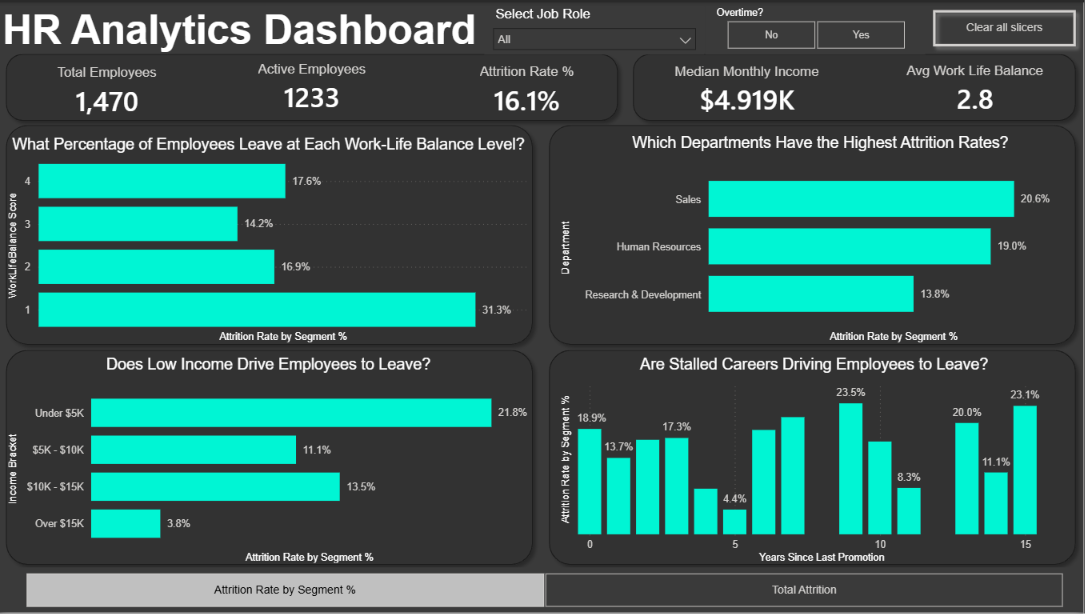

What the dashboard file says about the page in this screenshot:
{"tool":"powerbi","page":{"name":"Dashboard","canvas":[1280,720],"ordinal":0},"visuals":[{"type":"group","id":"g1","title":"Background","box":[0,52.4,1280,620.5],"z":0},{"type":"shape","box":[0,52.4,739.8,96.8],"z":0,"group":"g1"},{"type":"cardVisual","fields":{"Data":["_Measures.Total Employees"]},"box":[0,52.2,256,106.1],"z":1000},{"type":"shape","box":[739.8,52.4,540.4,96.8],"z":1000,"group":"g1"},{"type":"cardVisual","fields":{"Data":["_Measures.Attrition Rate %"]},"box":[496.2,47.3,256,114.6],"z":2000},{"type":"shape","box":[640.7,401.7,639.5,271.4],"z":2000,"group":"g1"},{"type":"cardVisual","fields":{"Data":["_Measures.Active Employees"]},"box":[241.4,43.6,256,114.6],"z":3000},{"type":"shape","box":[640.7,136.2,639.5,277.3],"z":3000,"group":"g1"},{"type":"cardVisual","fields":{"Data":["_Measures.Median Monthly Income"]},"box":[754.6,47.3,256,113.4],"z":4000},{"type":"shape","box":[0,136.2,639.5,277.3],"z":4000,"group":"g1"},{"type":"cardVisual","fields":{"Data":["_Measures.Avg Work Life Balance"]},"box":[1024,46.1,256,114.6],"z":5000},{"type":"shape","box":[0,401.7,639.5,271.4],"z":5000,"group":"g1"},{"type":"clusteredBarChart","title":"What Percentage of Employees Leave at Each Work-Life Balance Level?","fields":{"Category":["Fact_Performance.WorkLifeBalance"],"Y":["_Measures.Attrition Rate by Segment %"]},"box":[7.3,157,622.9,248.7],"z":6000},{"type":"clusteredBarChart","title":"Which Departments Have the Highest Attrition Rates?","fields":{"Category":["JobDetails_dim.Department"],"Y":["_Measures.Attrition Rate by Segment %"]},"box":[659.5,154.6,620.5,251.1],"z":7000},{"type":"clusteredBarChart","title":"Does Low Income Drive Employees to Leave?","fields":{"Category":["Fact_Performance.Income Bracket"],"Y":["_Measures.Attrition Rate by Segment %"]},"box":[7.3,416.7,622.9,249.9],"z":8000},{"type":"clusteredColumnChart","title":"Are Stalled Careers Driving Employees to Leave?","fields":{"Category":["JobDetails_dim.YearsSinceLastPromotion"],"Y":["_Measures.Attrition Rate by Segment %"]},"box":[659.5,416.7,605.9,249.9],"z":9000},{"type":"textbox","box":[0,0,573.5,70.8],"z":10000},{"type":"slicer","fields":{"Values":["JobDetails_dim.JobRole"]},"box":[573.5,0,259.6,61.4],"z":11000},{"type":"actionButton","box":[1093.5,0,186.5,61],"z":12000},{"type":"slicer","fields":{"Values":["Fact_Performance.OverTime"]},"box":[834.2,0,259.6,61.4],"z":13000},{"type":"slicer","fields":{"Values":["Parameter.Parameter"]},"box":[7.1,666.7,1273.2,53.1],"z":13001}]}

Visuals, with their boxes in screenshot pixels (x1, y1, x2, y2), scaled from the page's 1280x720 canvas onto the 1085x614 screenshot:
"Background" group: region(0, 45, 1084, 574)
shape: region(0, 45, 627, 127)
cardVisual - _Measures.Total Employees: region(0, 45, 217, 135)
shape: region(627, 45, 1084, 127)
cardVisual - _Measures.Attrition Rate %: region(421, 40, 638, 138)
shape: region(543, 343, 1084, 574)
cardVisual - _Measures.Active Employees: region(205, 37, 422, 135)
shape: region(543, 116, 1084, 353)
cardVisual - _Measures.Median Monthly Income: region(640, 40, 857, 137)
shape: region(0, 116, 542, 353)
cardVisual - _Measures.Avg Work Life Balance: region(868, 39, 1084, 137)
shape: region(0, 343, 542, 574)
"What Percentage of Employees Leave at Each Work-Life Balance Level?" clusteredBarChart: region(6, 134, 534, 346)
"Which Departments Have the Highest Attrition Rates?" clusteredBarChart: region(559, 132, 1084, 346)
"Does Low Income Drive Employees to Leave?" clusteredBarChart: region(6, 355, 534, 568)
"Are Stalled Careers Driving Employees to Leave?" clusteredColumnChart: region(559, 355, 1073, 568)
textbox: region(0, 0, 486, 60)
slicer - JobDetails_dim.JobRole: region(486, 0, 706, 52)
actionButton: region(927, 0, 1084, 52)
slicer - Fact_Performance.OverTime: region(707, 0, 927, 52)
slicer - Parameter.Parameter: region(6, 569, 1084, 613)
